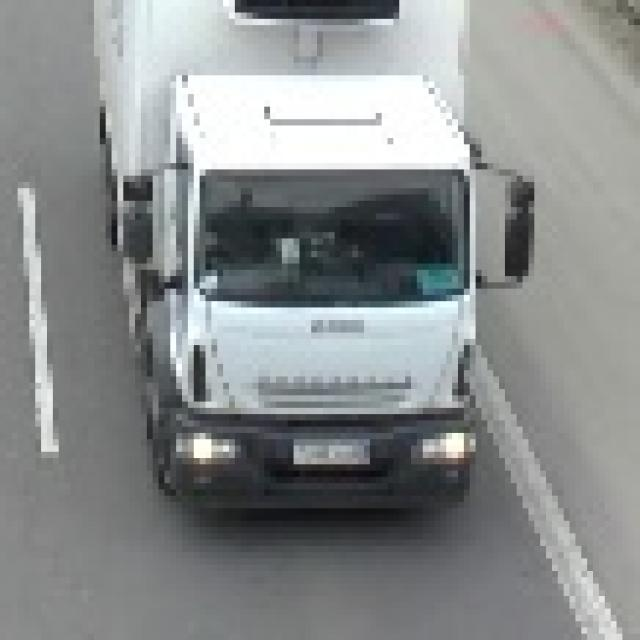truck: (88, 0, 529, 508)
